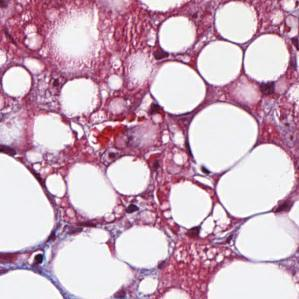ballooning: (62, 160, 124, 222), (58, 72, 105, 124)
